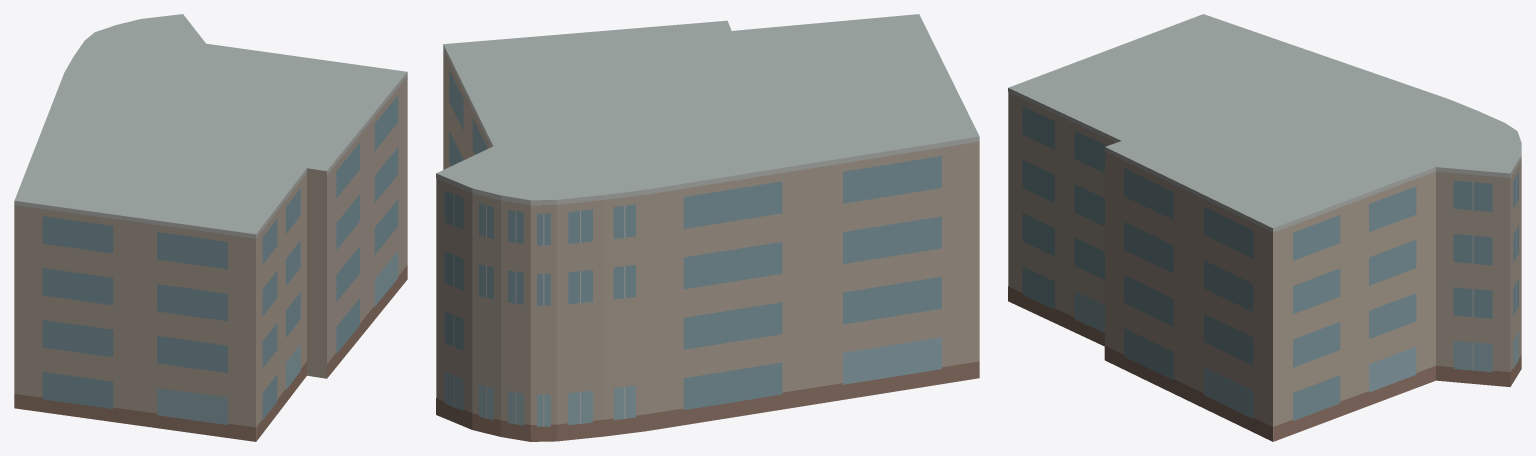
File: survey-upis-32534484.glb
The picture shows the model from 3 angles, left to right: view 1: azimuth 30°, elevation 25°; view 2: azimuth 150°, elevation 25°; view 3: azimuth 270°, elevation 25°; orthographic projection. The views are drawn at different scales.
Visible parts, largest first — view 1: survey-upis-32534484.tmp; view 2: survey-upis-32534484.tmp; view 3: survey-upis-32534484.tmp.
Part boxes in pixels (bbox=[...]): survey-upis-32534484.tmp: bbox=[14, 14, 407, 441]; survey-upis-32534484.tmp: bbox=[436, 14, 979, 441]; survey-upis-32534484.tmp: bbox=[1008, 14, 1521, 441].
Bounding box in the file's own units: 25.42 × 11.8 × 25.73.
